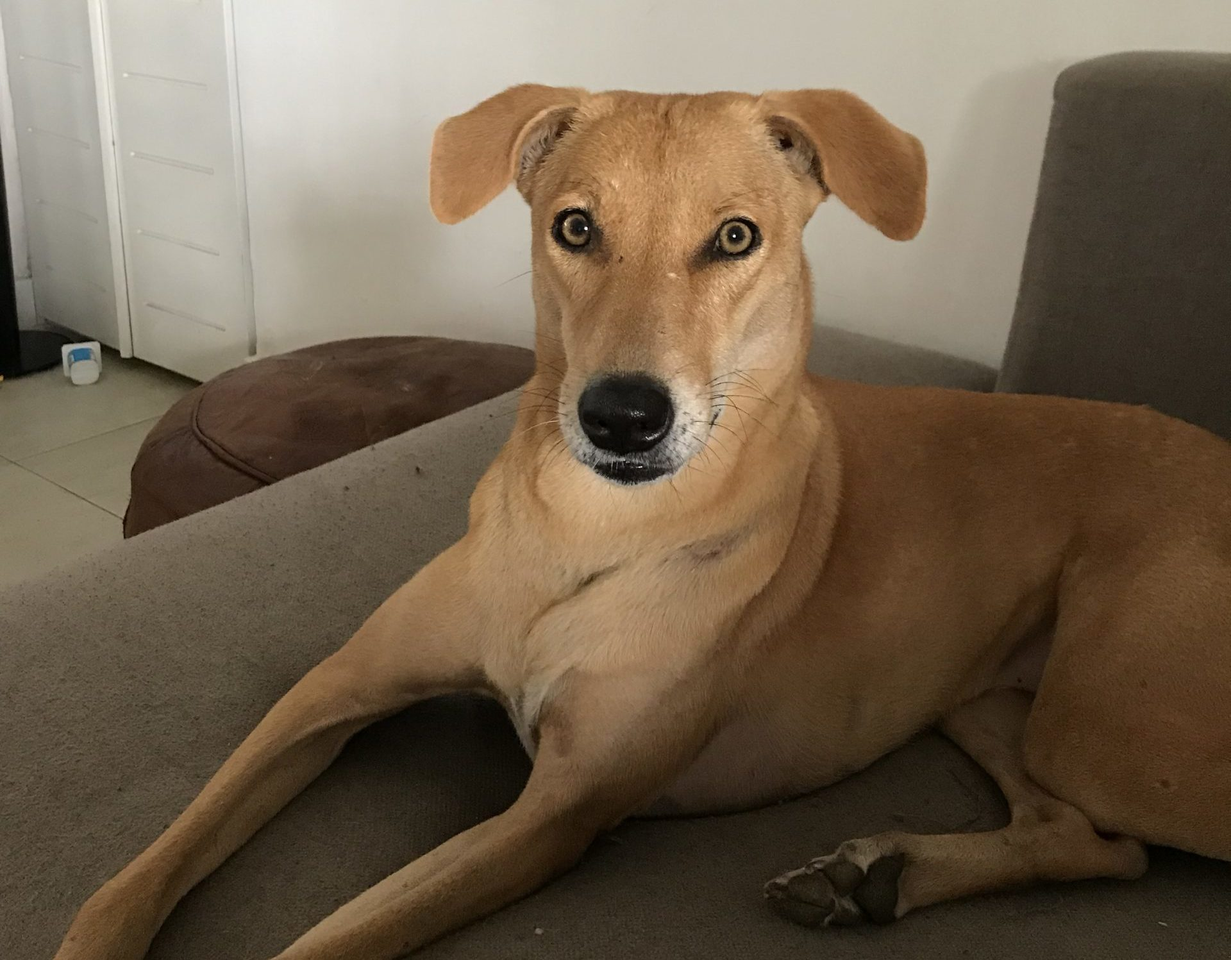Dog: (55, 57, 1221, 909)
